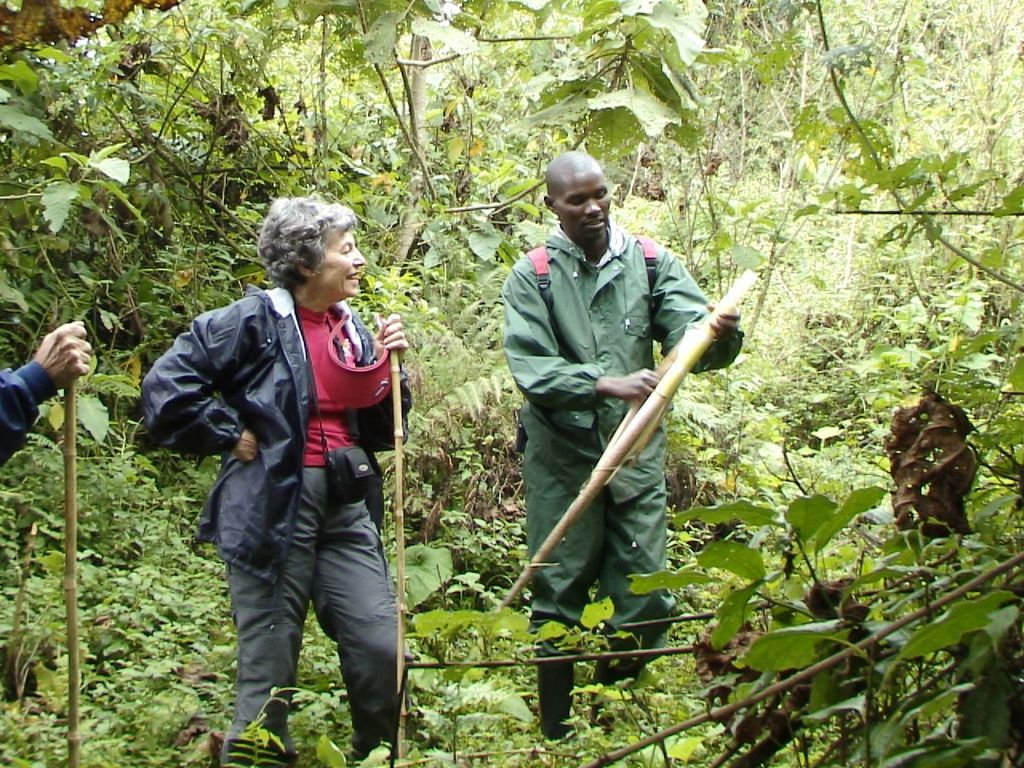Person: (139, 196, 409, 768), (500, 150, 744, 742), (0, 319, 90, 466)
